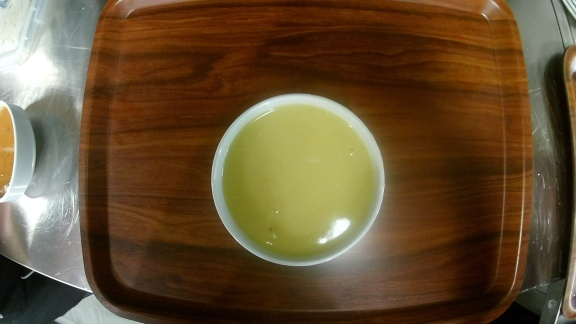mercimek: (207, 93, 389, 267)
